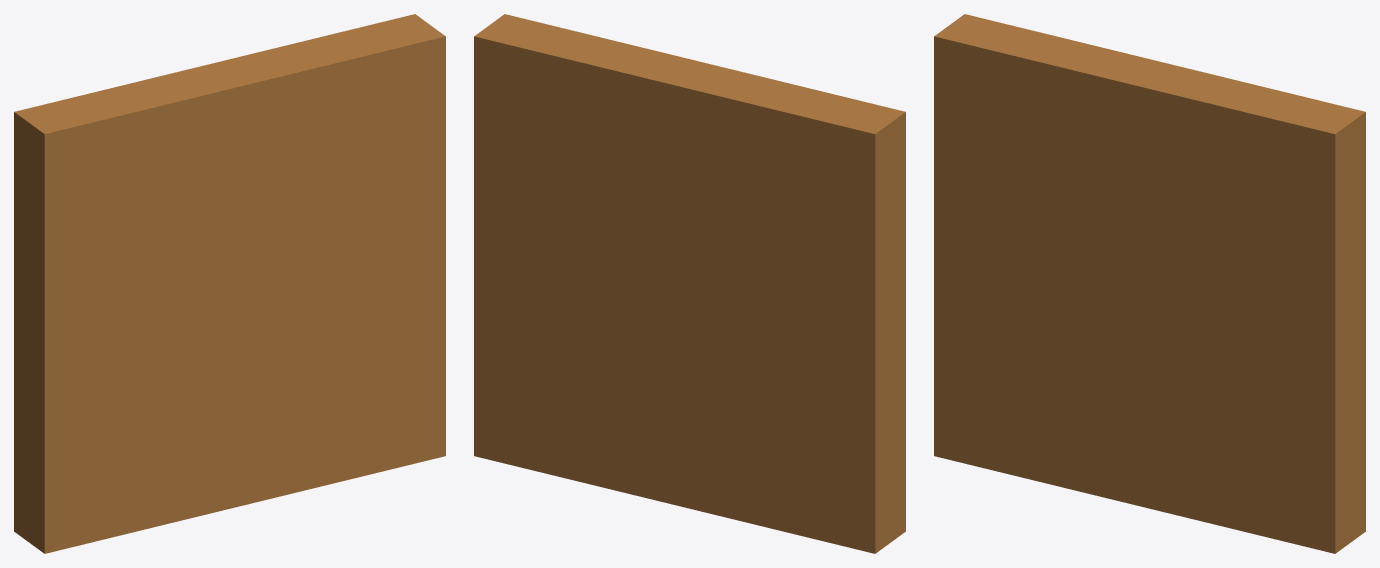
3 renders of one model, left to right at view 1: azimuth 30°, elevation 25°; view 2: azimuth 150°, elevation 25°; view 3: azimuth 330°, elevation 25°, orthographic.
Visible parts, largest first — view 1: I-9; view 2: I-9; view 3: I-9.
Part boxes in pixels (x1,y1,x2,y2): I-9: [14, 14, 445, 553]; I-9: [474, 14, 905, 553]; I-9: [934, 14, 1365, 553].
Bounding box in the file's own units: 612 × 612 × 80.81.
